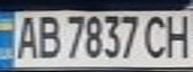3: (103, 11, 124, 60)
7: (60, 11, 84, 60), (118, 11, 142, 60)
8: (81, 11, 106, 60)
A: (9, 12, 42, 61)
B: (33, 11, 63, 60)
C: (142, 11, 172, 60)
H: (163, 11, 193, 60)
